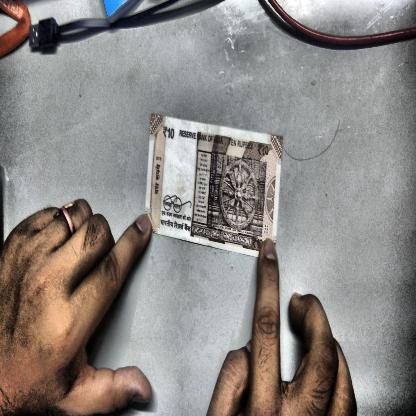Rs10: (161, 124, 176, 142)
